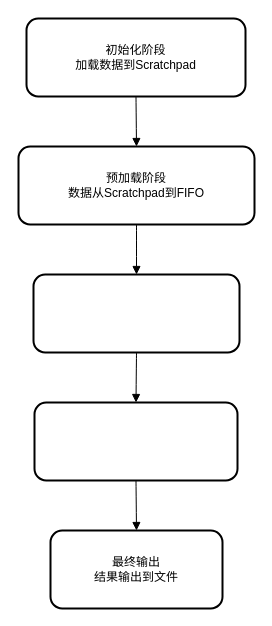
Some shapes in this 272 by 626 pixel diagram are drawn without their labels. The centre of each missing label's shape, as x and y in pixels:
计算阶段 PE阵列执行乘加操作: pixel 136 313
输出阶段 结果写回Scratchpad: pixel 135 441
